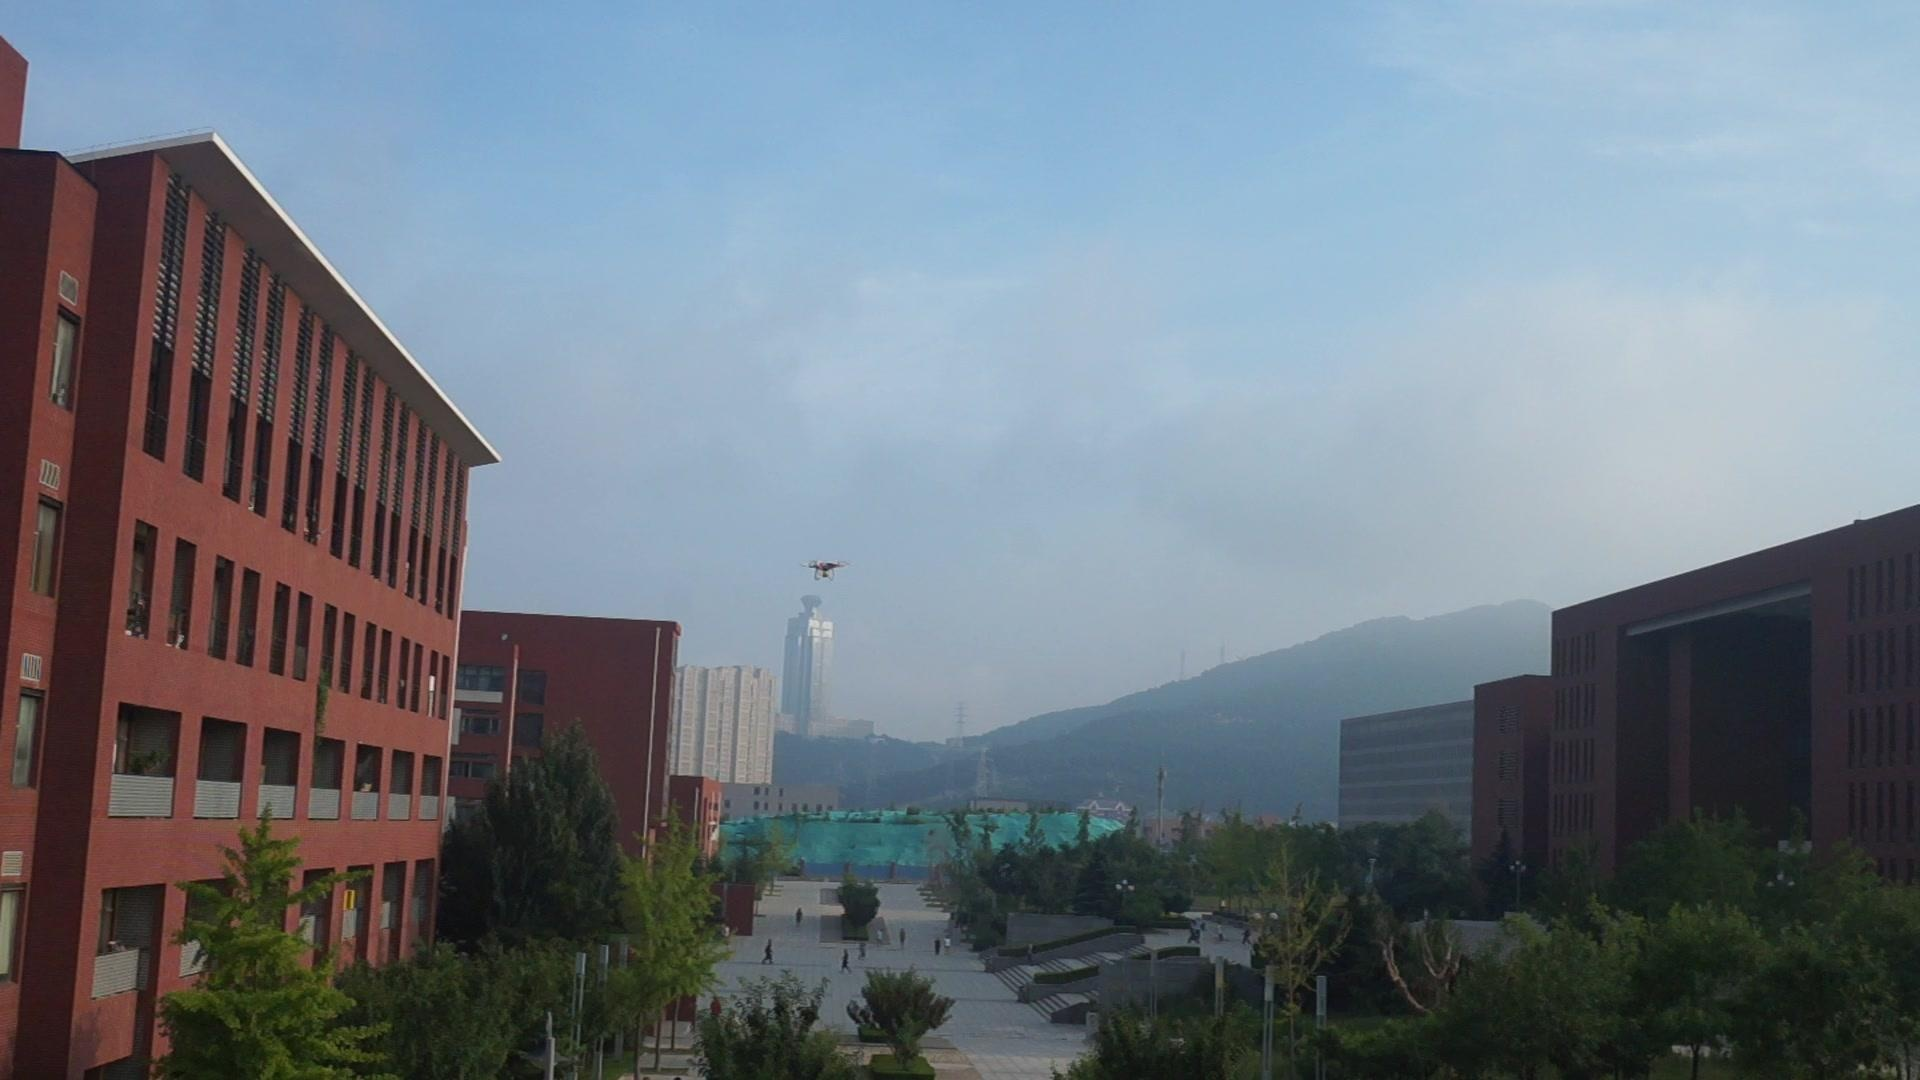UAV: (800, 560, 852, 580)
